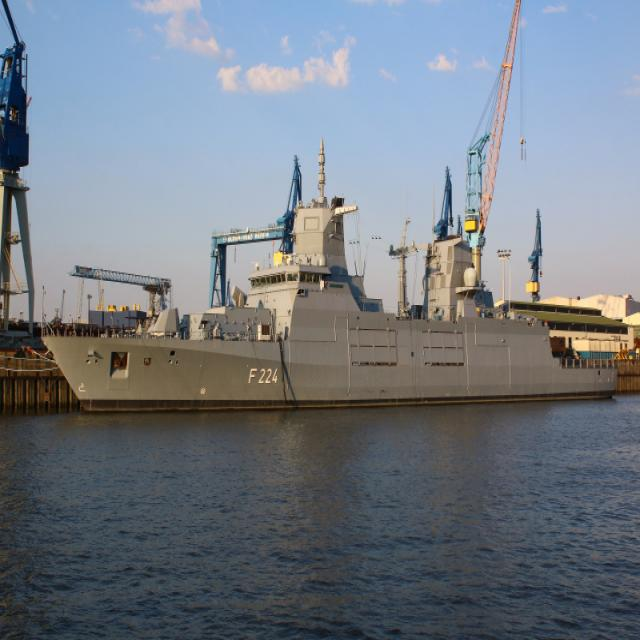Fragata: (37, 119, 623, 417)
